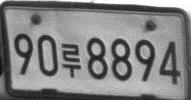0: (36, 34, 58, 77)
4: (158, 40, 181, 85)
8: (85, 36, 108, 81), (110, 37, 133, 82)
9: (12, 32, 34, 77), (134, 39, 156, 82)
루: (60, 42, 81, 79)
